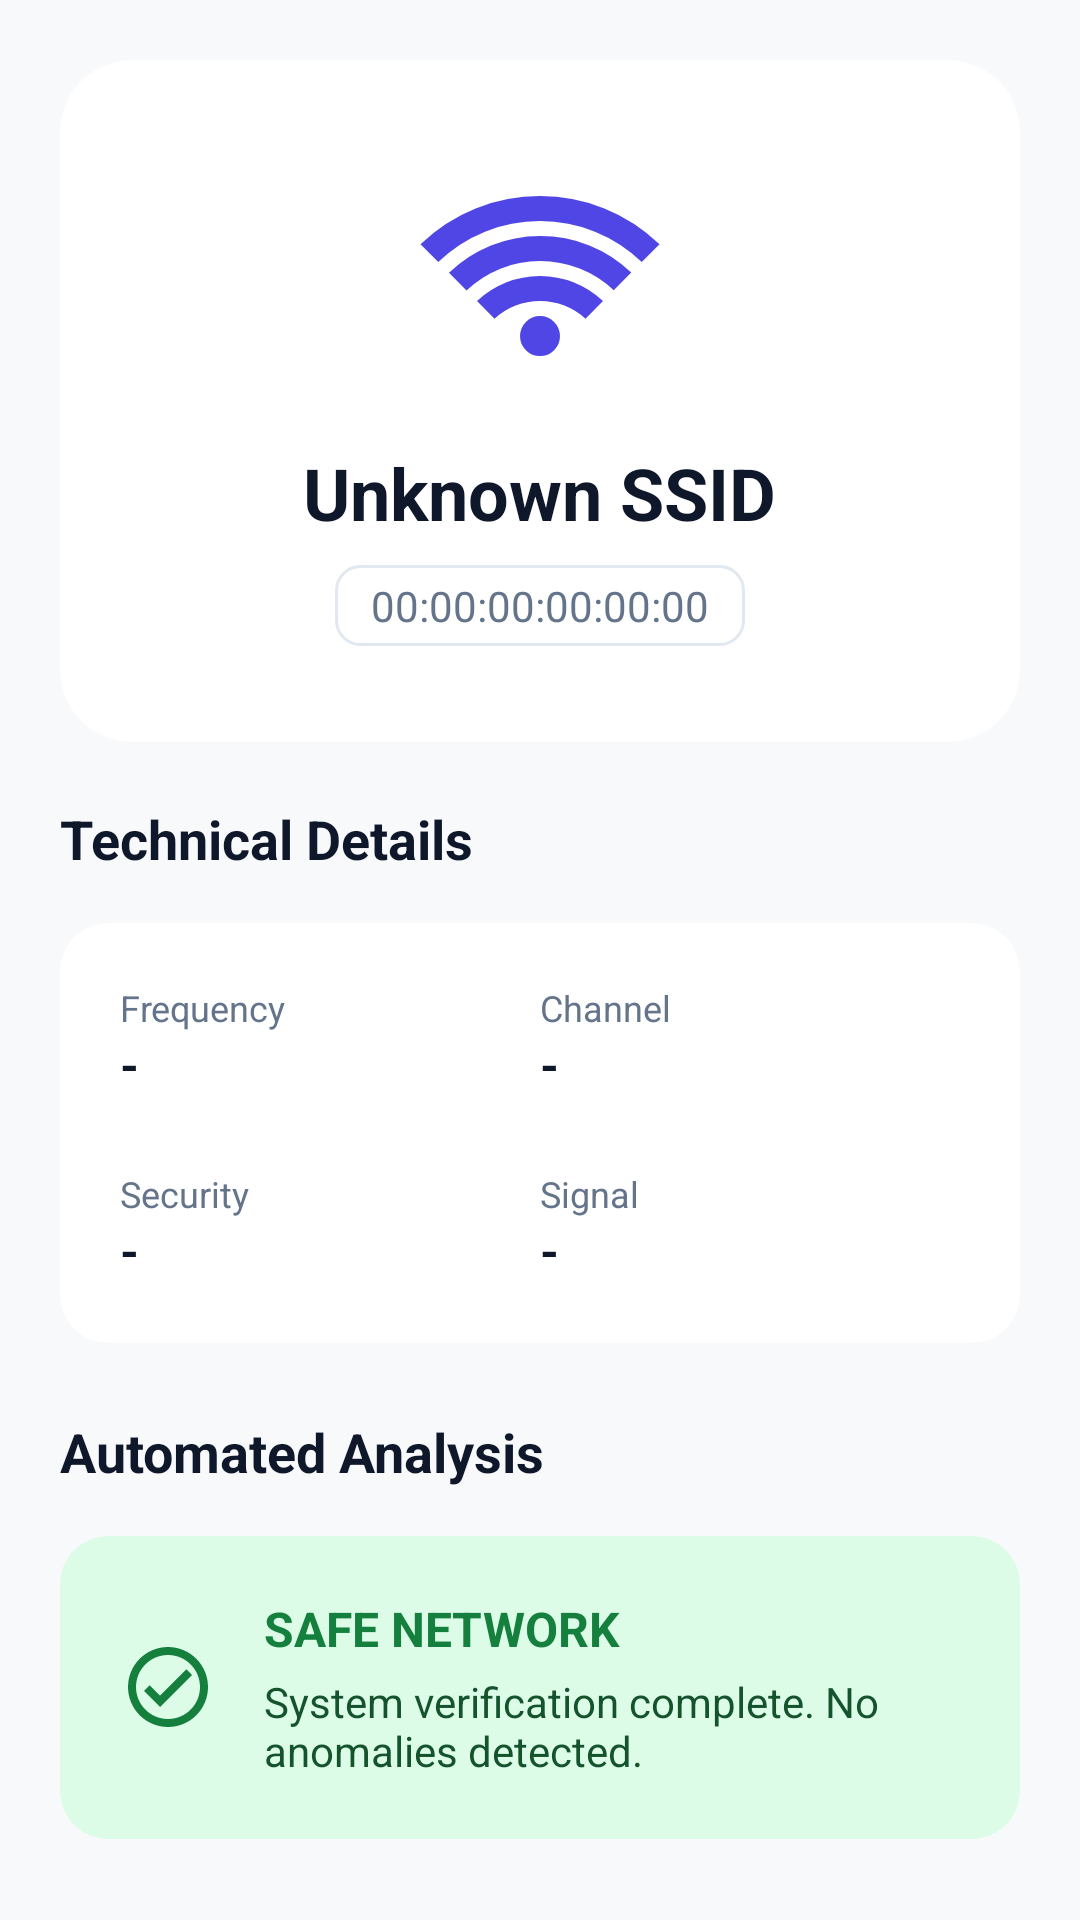

Icons on this 1080×1920 Android screen, each with the point to tap as (x=x, y=y):
check circle: (x=168, y=1687)
wifi: (x=540, y=276)
